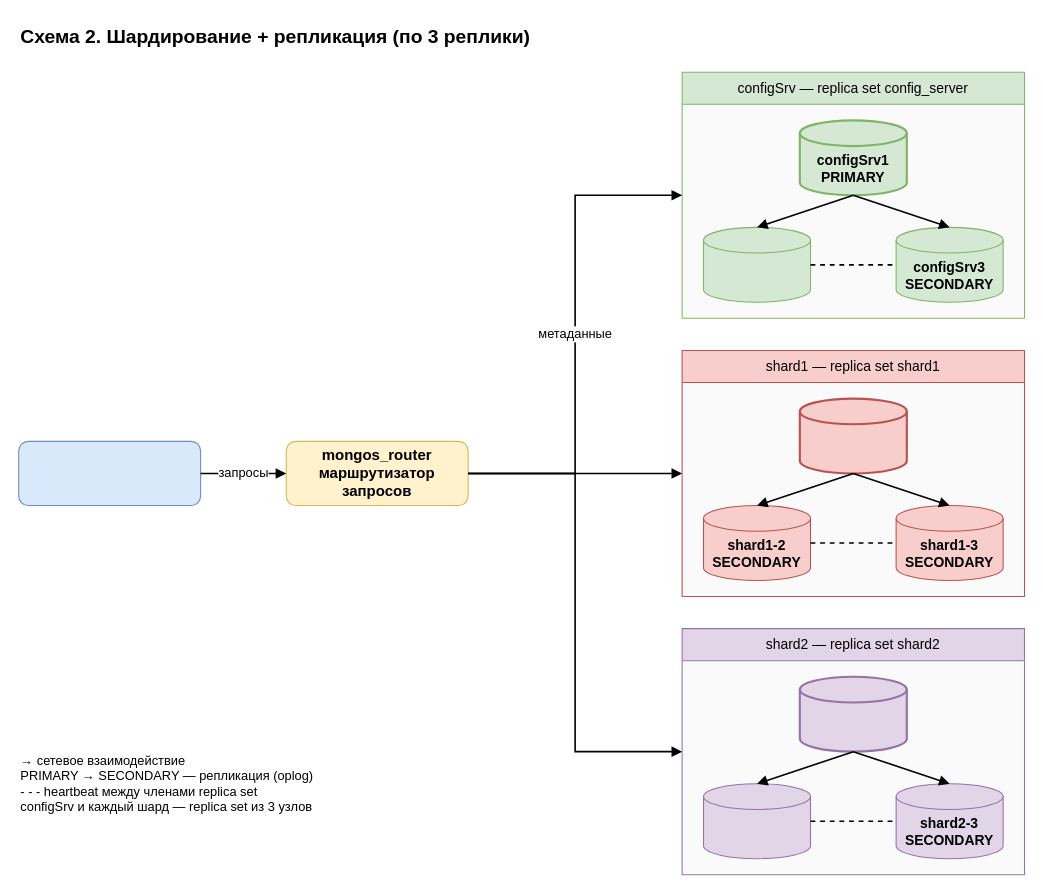
Some shapes in this 1043 by 893 pixel diagram are drawn without their labels. Here are the shapes that lost their labels. From the top down, the centre of each, then its label:
At point (756, 264): "configSrv2 SECONDARY".
At point (852, 435): "shard1-1 PRIMARY".
At point (109, 473): "pymongo-api FastAPI, порт 8080".
At point (852, 713): "shard2-1 PRIMARY".
At point (756, 821): "shard2-2 SECONDARY".
